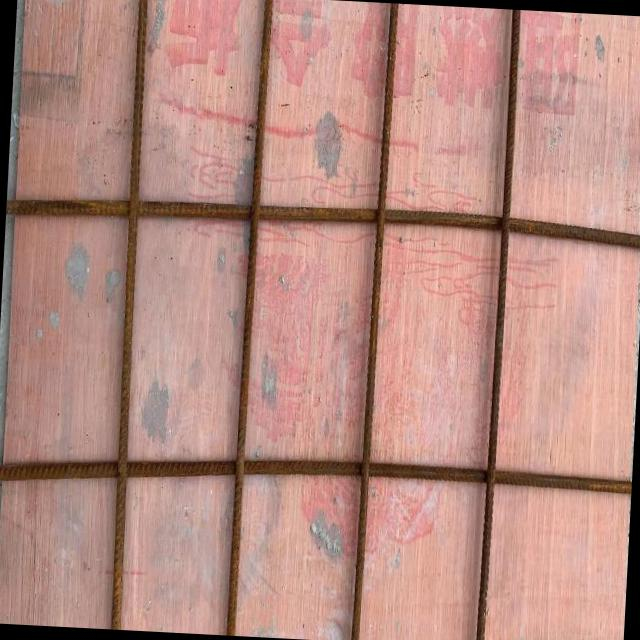ribbed bar: (0, 438, 632, 516), (6, 183, 640, 255), (104, 0, 155, 629), (350, 3, 398, 640), (224, 0, 271, 635), (474, 9, 521, 640)
